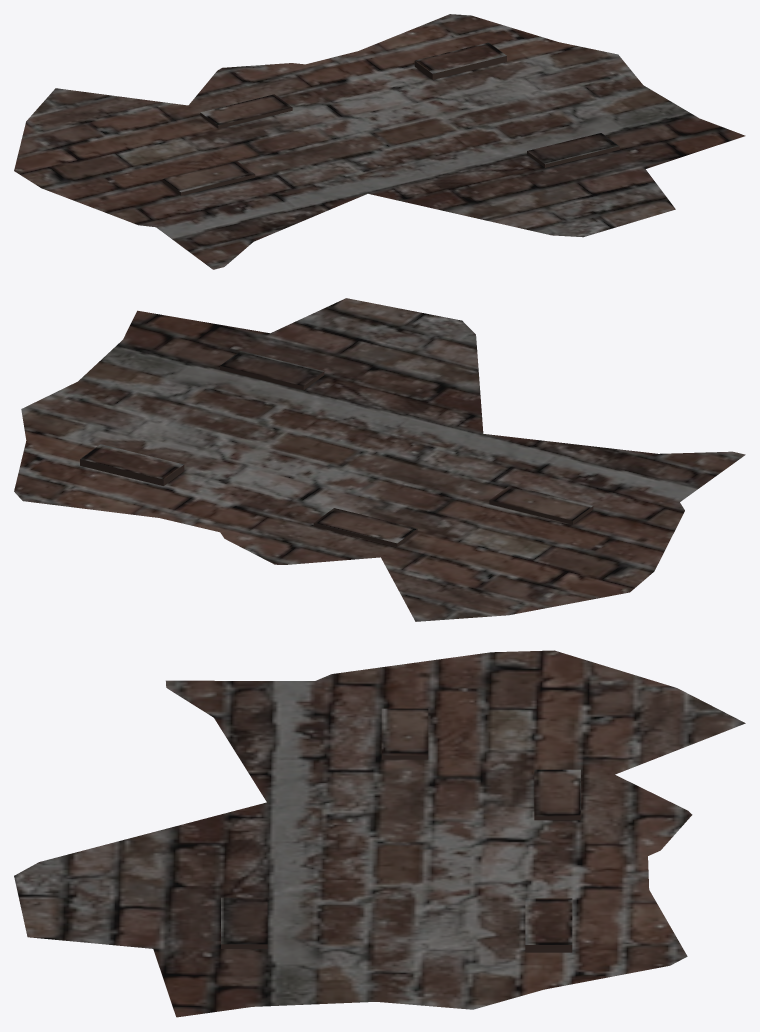
File: brick_destruction_1_2.fbx
3 views of the same model, one above another, from view 1: azimuth 30°, elevation 25°; view 2: azimuth 150°, elevation 25°; view 3: azimuth 270°, elevation 25° (orthographic). The views are drawn at different scales.
Parts seen in each view (by area): view 1: Circle; view 2: Circle; view 3: Circle.
Part boxes in pixels (x1=…): Circle: x1=14, y1=14, x2=745, y2=269; Circle: x1=14, y1=298, x2=745, y2=621; Circle: x1=14, y1=650, x2=745, y2=1017.
Size of the model in its own units: 494 by 5.73 by 416.
